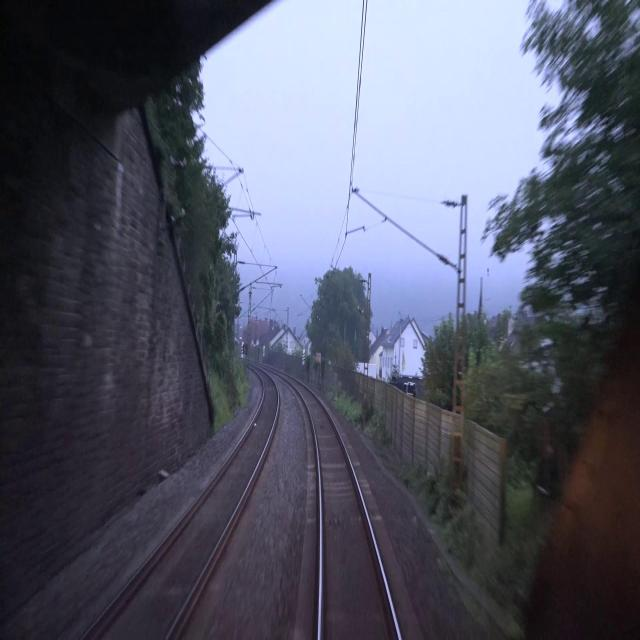rail-track: (85, 373, 276, 639), (297, 385, 397, 639)
